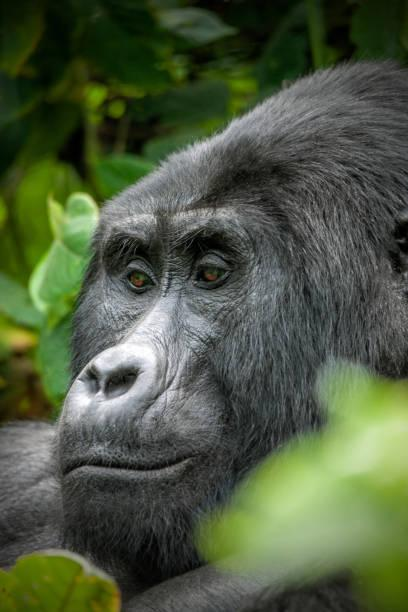goriile_montagne: (0, 84, 408, 586)
